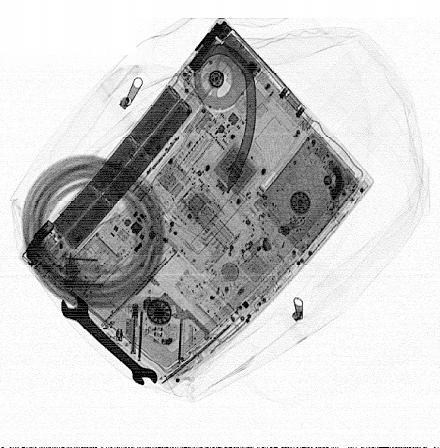Wrench: (58, 295, 159, 388)
